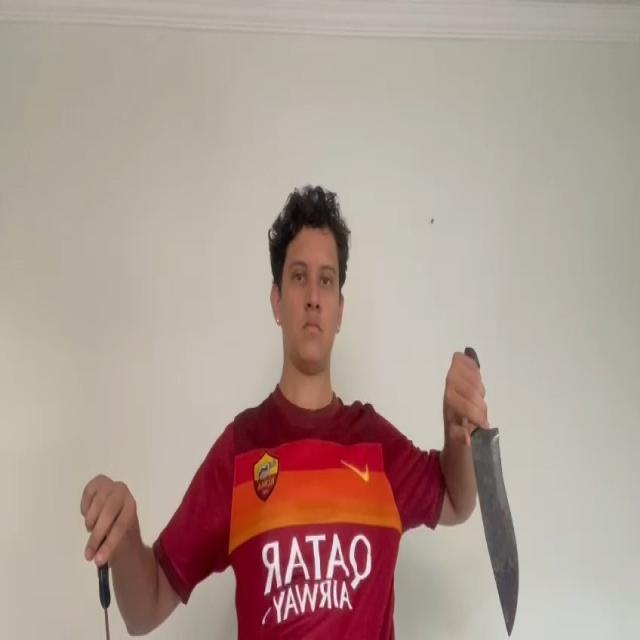knife: (471, 426, 519, 638)
